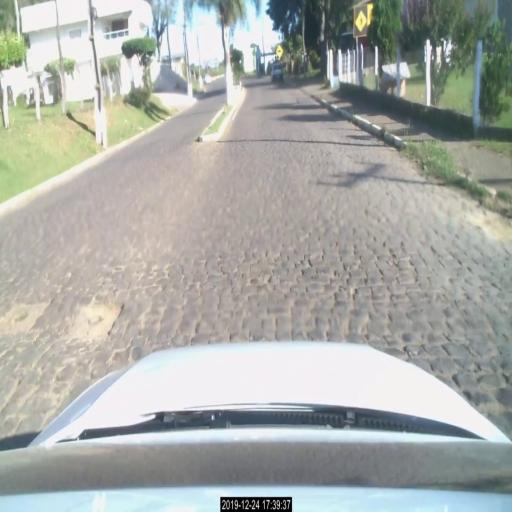Pothole: (68, 304, 123, 342), (0, 301, 52, 335)
